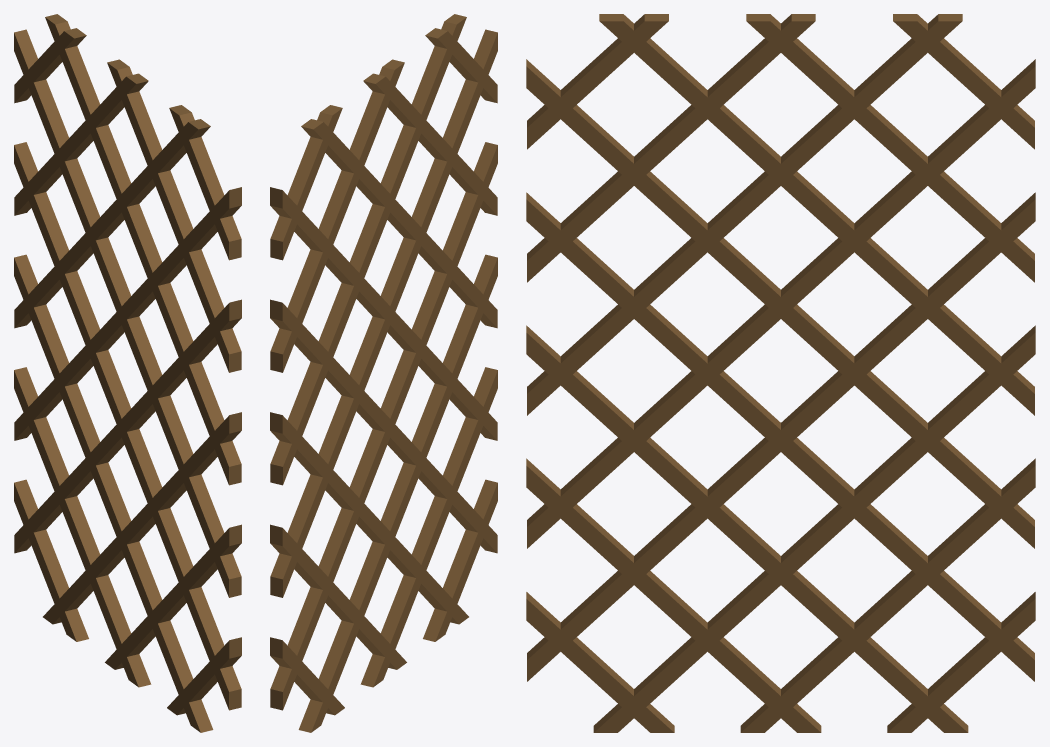
Rendered from Trellis.fbx.
3 renders of one model, left to right at view 1: azimuth 30°, elevation 25°; view 2: azimuth 150°, elevation 25°; view 3: azimuth 270°, elevation 25°, orthographic. The views are drawn at different scales.
Visible parts, largest first — view 1: Trellis; view 2: Trellis; view 3: Trellis.
Part boxes in pixels (x1,y1,x2,y2): Trellis: (14,14,241,732); Trellis: (270,14,497,732); Trellis: (526,14,1035,732).
Size of the model in its own units: 6.25 by 287 by 186.
